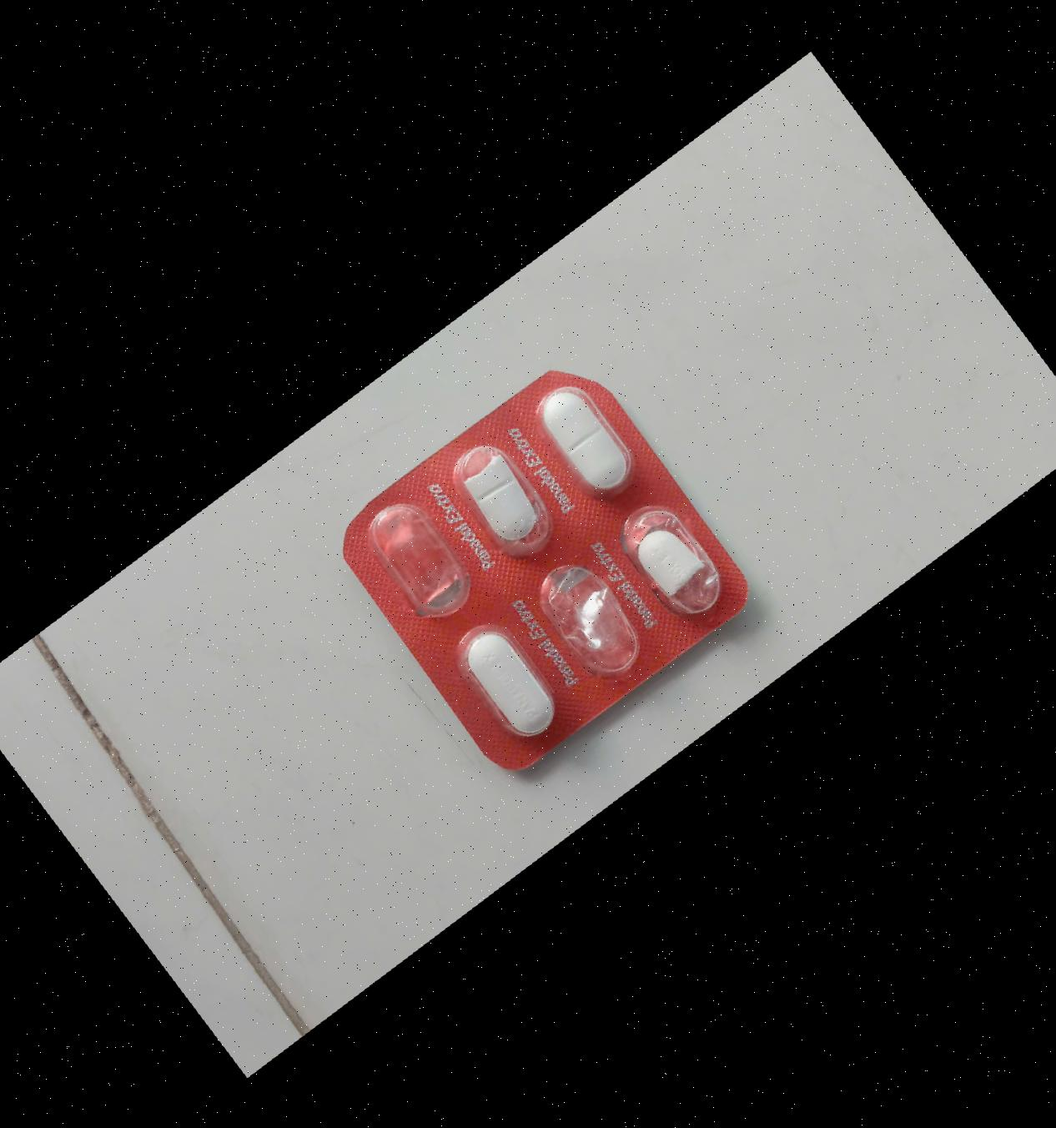Empty: (514, 527, 666, 696), (343, 472, 494, 640)
Full: (428, 590, 579, 759)
Partial: (508, 350, 660, 519), (429, 414, 581, 583), (598, 472, 749, 640)
